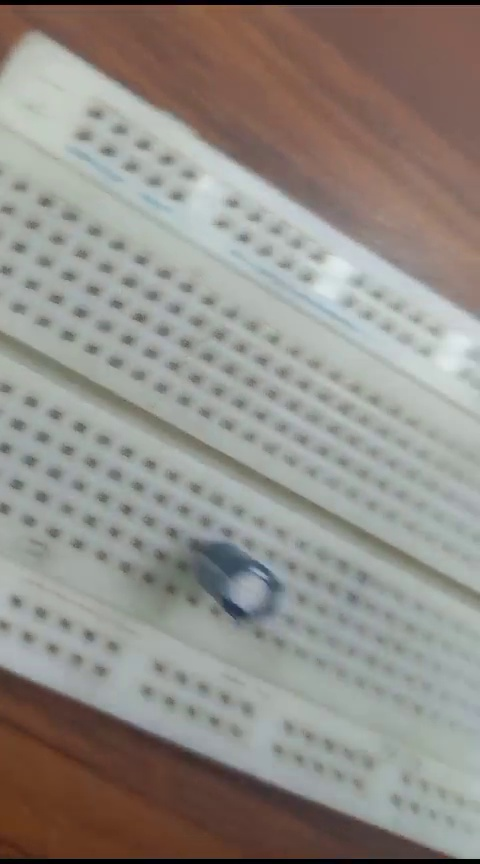capacitor: (180, 521, 280, 627)
